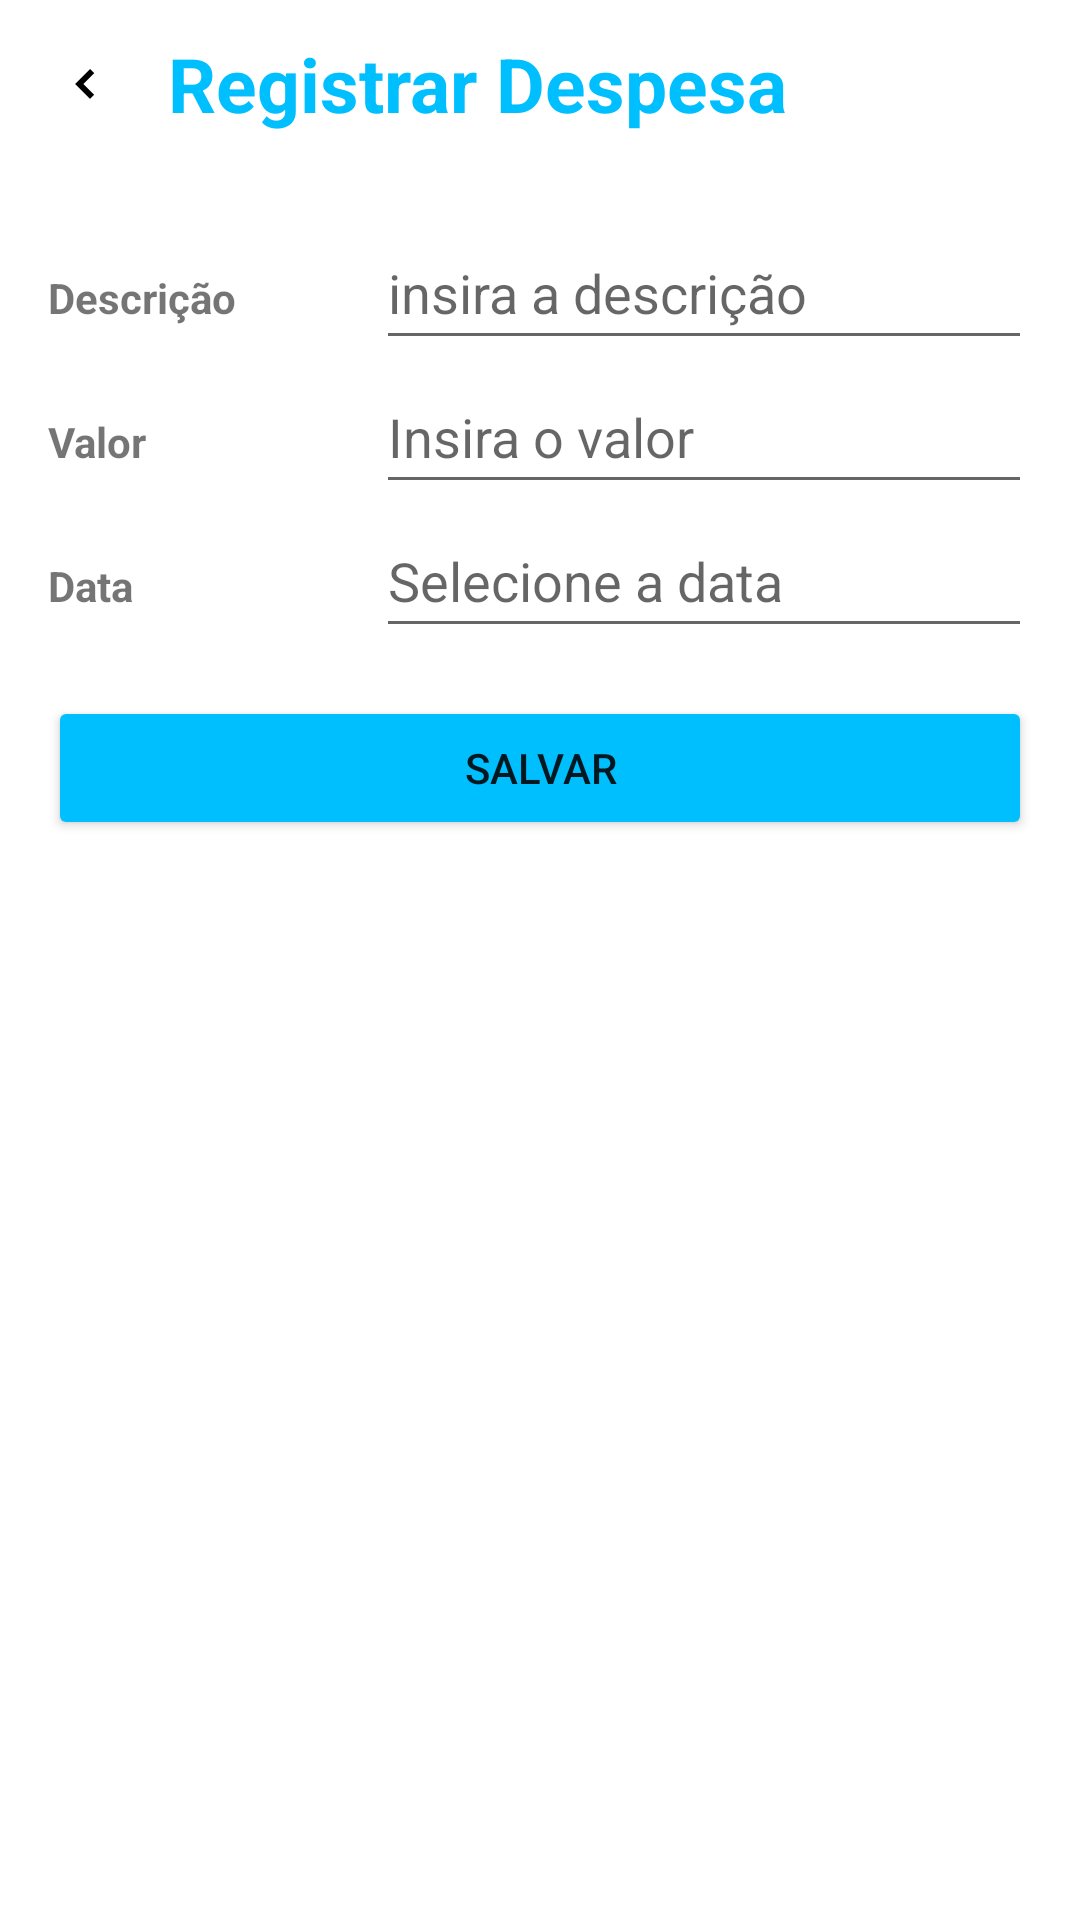

Where to tap for icons on this 1080 x 1920 app screen, as [x,y]:
Voltar: [84,84]
